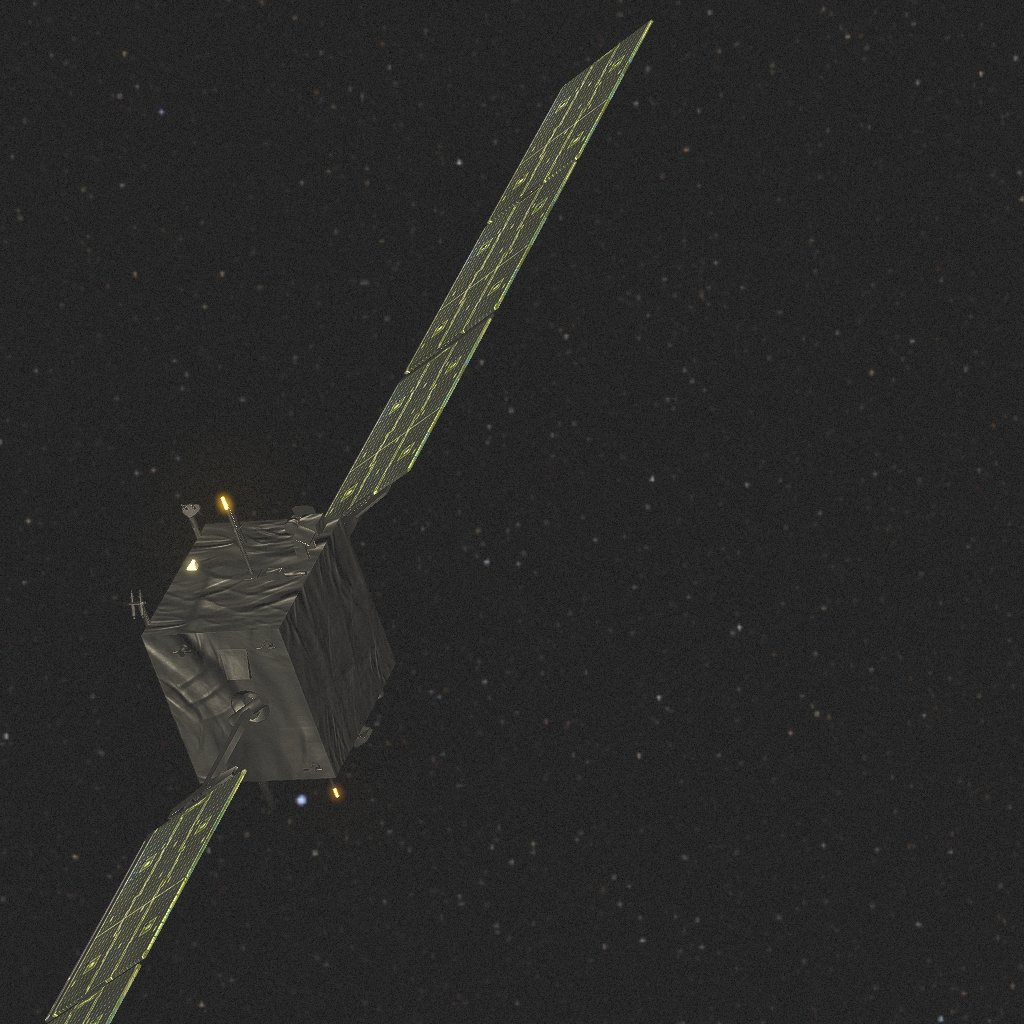smart_1: (45, 20, 653, 1024)
